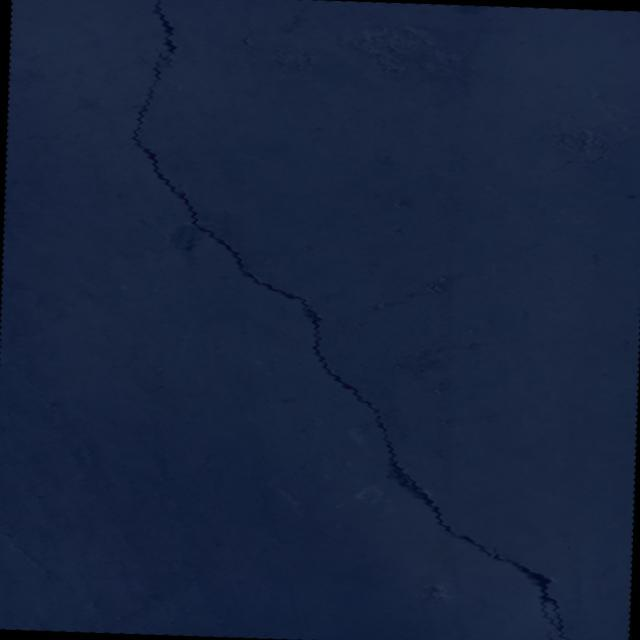crack: (118, 0, 511, 559), (487, 547, 578, 640), (544, 628, 561, 640)
